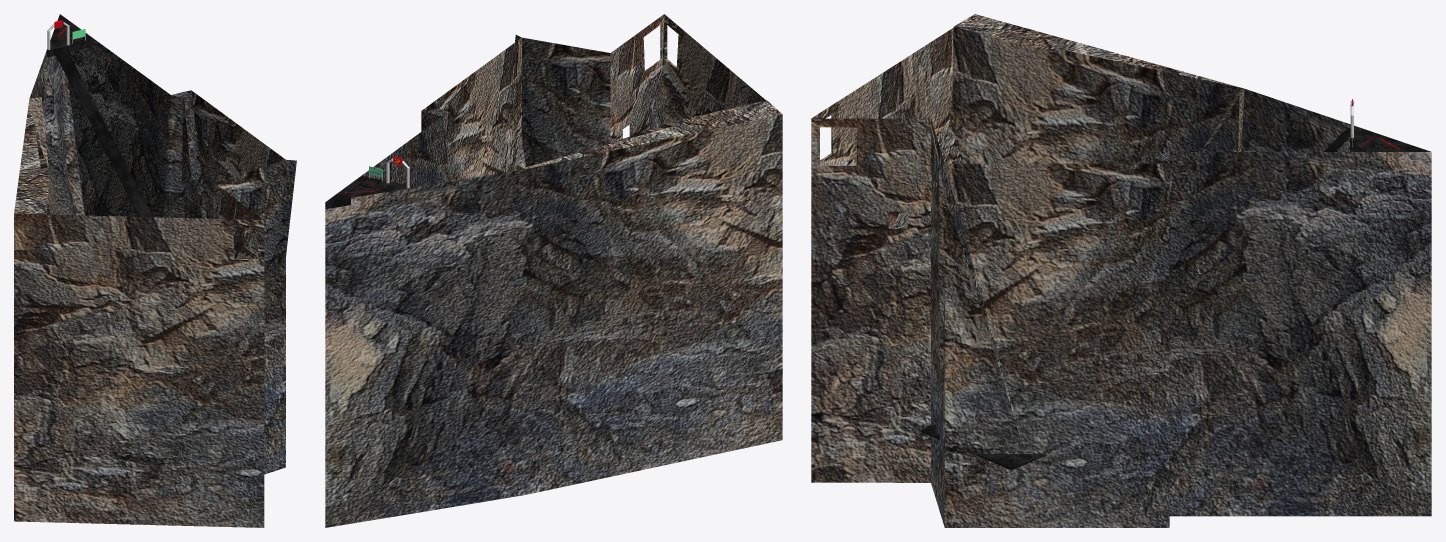
File: Ravine.glb
The picture shows the model from 3 angles, left to right: view 1: azimuth 30°, elevation 25°; view 2: azimuth 150°, elevation 25°; view 3: azimuth 270°, elevation 25°; orthographic projection. The views are drawn at different scales.
Parts seen in each view (by area): view 1: Ground, Stairs, Platform; view 2: Ground, Platform; view 3: Ground, Platform, Paltform.
Part boxes in pixels (x1=…): Ground: x1=14, y1=18, x2=296, y2=527; Stairs: x1=53, y1=46, x2=153, y2=217; Platform: x1=46, y1=14, x2=94, y2=57; Ground: x1=325, y1=14, x2=782, y2=527; Platform: x1=325, y1=175, x2=412, y2=209; Ground: x1=811, y1=14, x2=1431, y2=527; Platform: x1=1350, y1=124, x2=1430, y2=151; Paltform: x1=921, y1=424, x2=1046, y2=469.
Bounding box in the file's own units: 67.67 × 75.81 × 108.
Materials: 12 (3 with a texture image).
